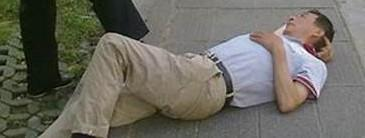Fall-Detected: (9, 0, 351, 138)
